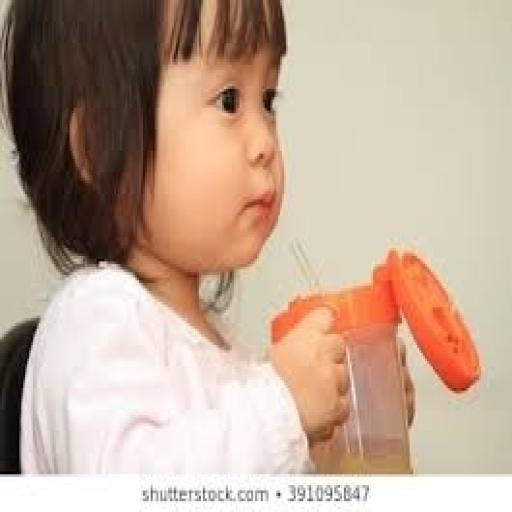drinking: (269, 242, 481, 472)
